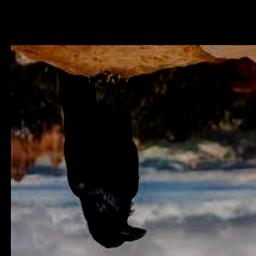Crow: (58, 70, 147, 249)
